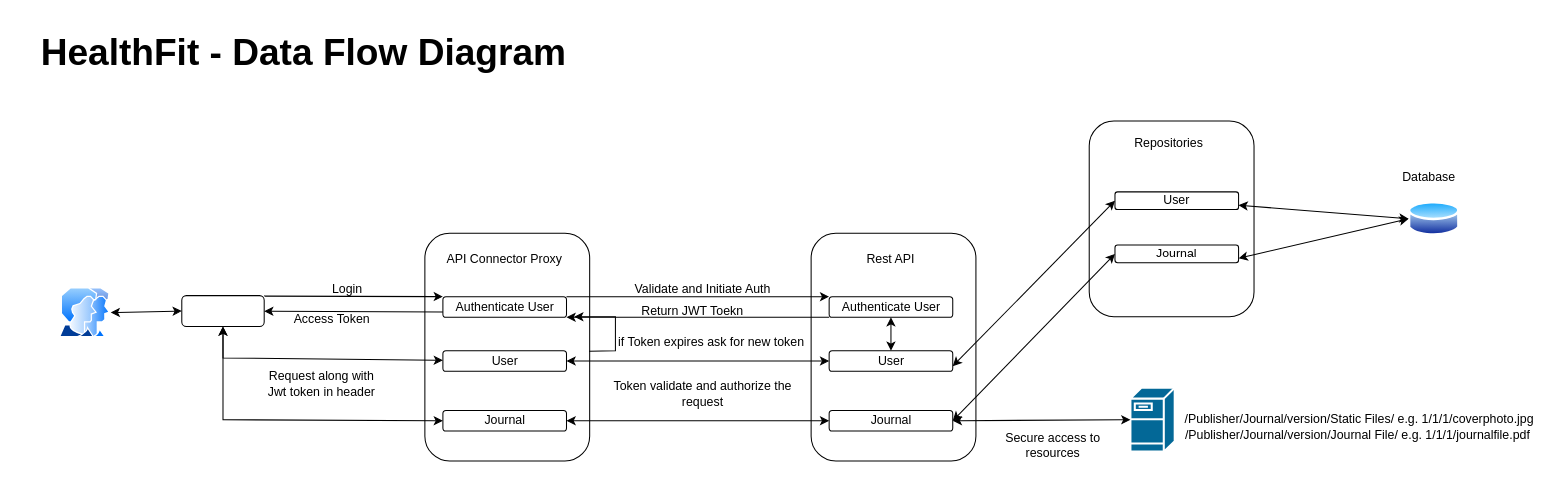
This 1561x479 diagram has some shape labels left out. Each missing label, with the centre of its shape:
"File Storage Server Path Map Over IIS" belongs at (x=1293, y=403).
"Web App" belongs at (x=222, y=311).
